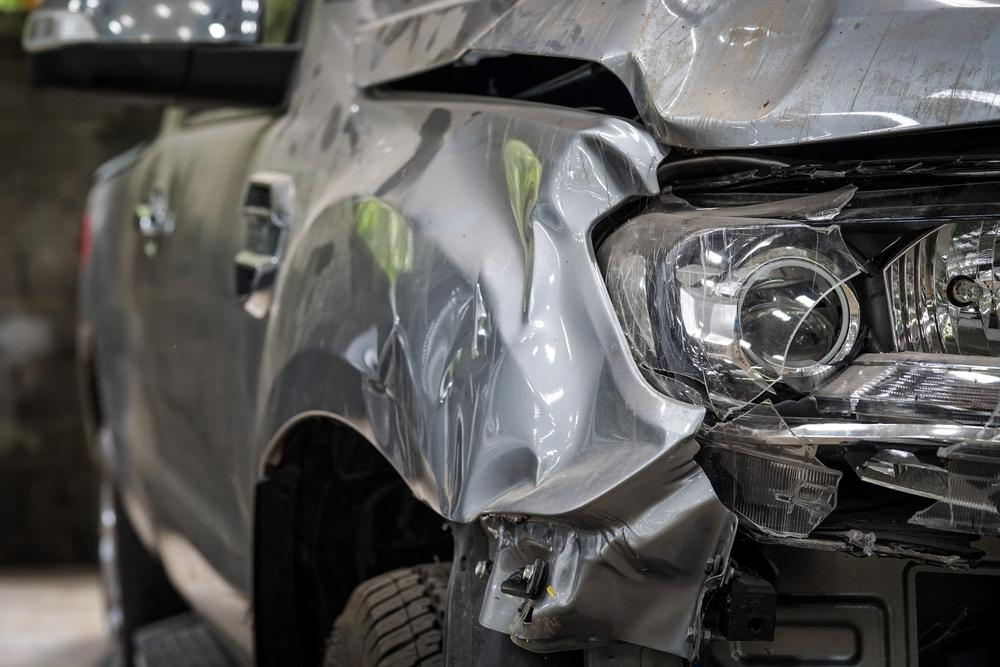dent: (363, 135, 729, 644), (603, 6, 830, 122)
lamp broken: (595, 135, 1000, 571)
